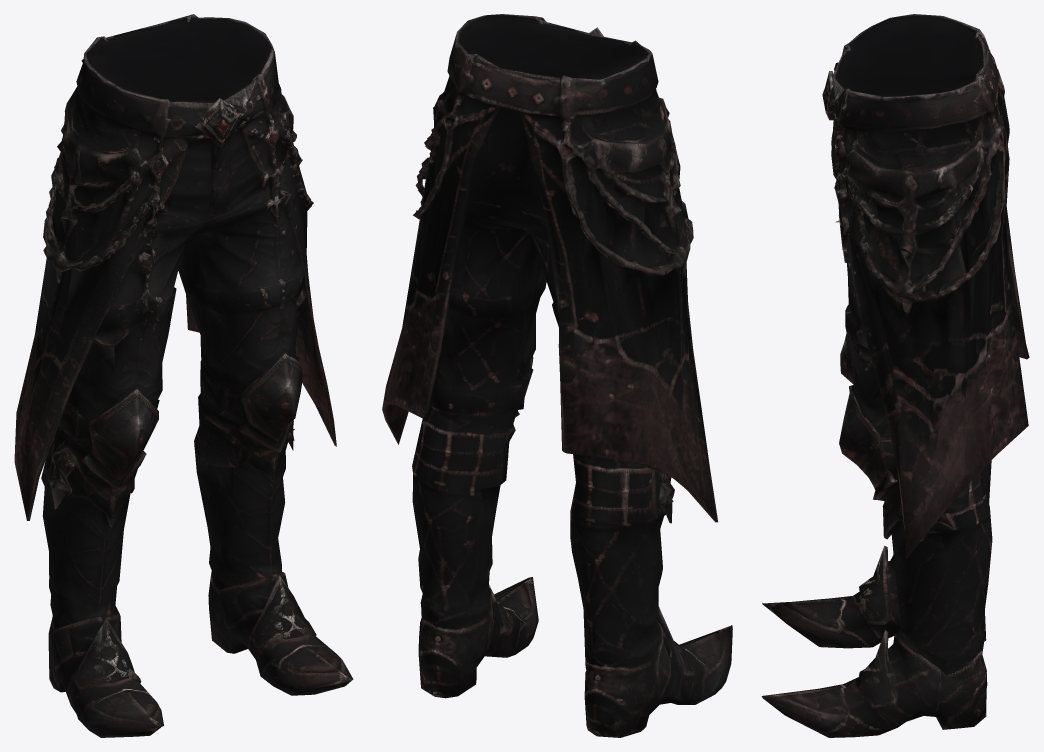
File: Meshy_AI_Ironbound_Leg_Armor_0607215446_texture.glb
The picture shows the model from 3 angles, left to right: view 1: azimuth 30°, elevation 25°; view 2: azimuth 150°, elevation 25°; view 3: azimuth 270°, elevation 25°; orthographic projection. The views are drawn at different scales.
Visible parts, largest first — view 1: Mesh_0; view 2: Mesh_0; view 3: Mesh_0.
Boxes of the visible parts, x1,y1,x2,y2 form: Mesh_0: (14, 14, 353, 737); Mesh_0: (382, 14, 732, 737); Mesh_0: (761, 14, 1029, 737).
Size of the model in its own units: 0.9843 by 1.91 by 0.7398.
1 material, 1 textured.
